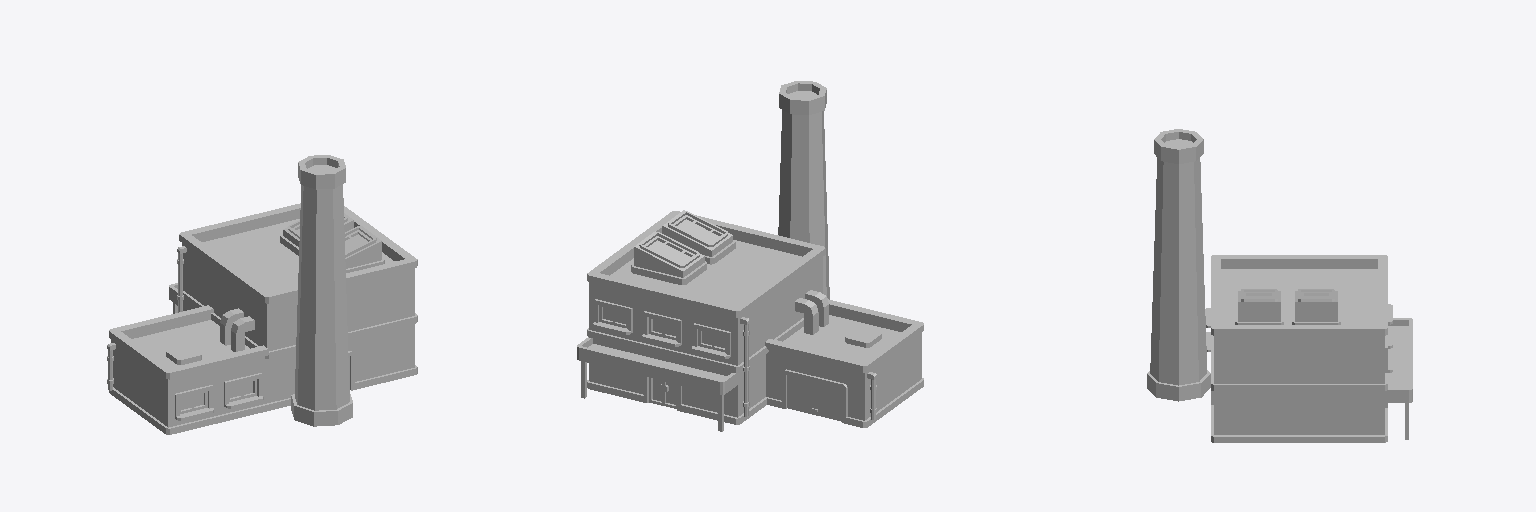
File: industrial_building-l.obj
3 views of the same model, side by side, from view 1: azimuth 30°, elevation 25°; view 2: azimuth 150°, elevation 25°; view 3: azimuth 270°, elevation 25° (orthographic).
Parts seen in each view (by area): view 1: building-l; view 2: building-l; view 3: building-l.
Boxes of the visible parts, <box> form: building-l: <box>107,155,417,434</box>; building-l: <box>577,81,923,431</box>; building-l: <box>1147,129,1412,442</box>.
Bounding box in the file's own units: 2.08 × 1.93 × 1.87.